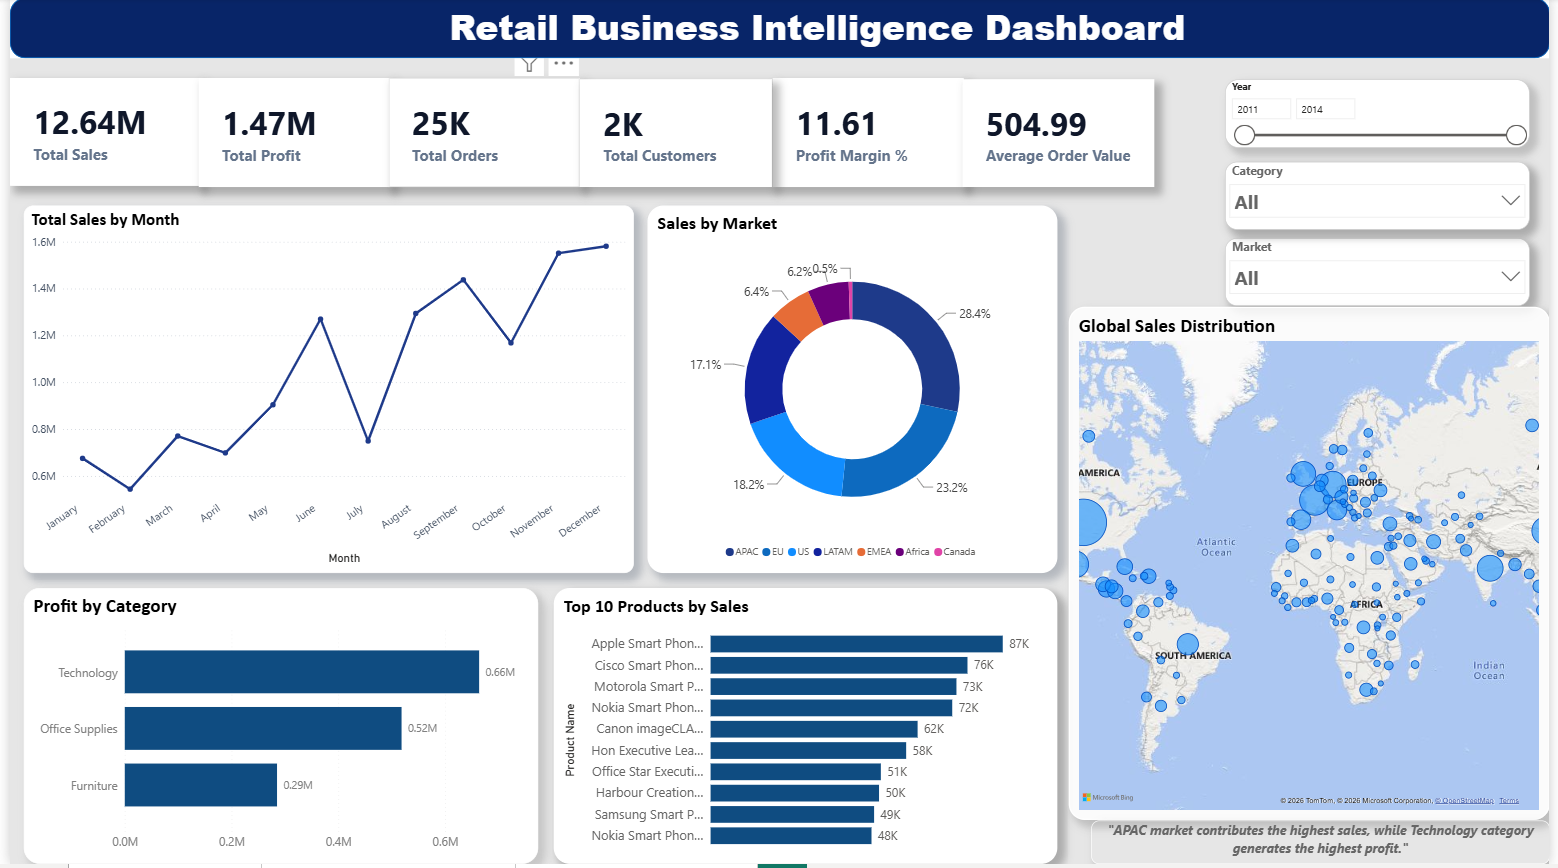

What the dashboard file says about the page in this screenshot:
{"tool":"powerbi","page":{"name":"Executive Dashboard","canvas":[1920,1080],"ordinal":0},"visuals":[{"type":"cardVisual","title":"Total Sales","fields":{"Data":["Measures (2).Total Sales"]},"box":[0,99.4,236,134.3],"z":0},{"type":"cardVisual","title":"Total Sales","fields":{"Data":["Measures (2).Profit Margin %"]},"box":[950.6,99.4,238,136],"z":1000},{"type":"cardVisual","title":"Total Sales","fields":{"Data":["Measures (2).Average Order Value"]},"box":[1187.8,101.2,239,134],"z":2000},{"type":"cardVisual","title":"Total Sales","fields":{"Data":["Measures (2).Total Profit"]},"box":[235.5,99.4,238,136],"z":3000},{"type":"cardVisual","title":"Total Sales","fields":{"Data":["Measures (2).Total Orders"]},"box":[472.7,99.4,238,136],"z":4000},{"type":"cardVisual","fields":{"Data":["Measures (2).Total Customers"]},"box":[711.6,101.2,239,134.3],"z":5000},{"type":"slicer","fields":{"Values":["DateTable.Year"]},"box":[1515.7,101.2,380.2,85.5],"z":6000},{"type":"slicer","fields":{"Values":["Global_Superstore.Market"]},"box":[1515.7,300,380.2,85],"z":7000},{"type":"slicer","fields":{"Values":["Global_Superstore.Category"]},"box":[1515.7,204.1,380.2,85],"z":8000},{"type":"lineChart","fields":{"Y":["Measures (2).Total Sales"],"Category":["DateTable.Month"]},"box":[17.4,258.1,760.5,458.7],"z":9000},{"type":"clusteredBarChart","title":"Profit by Category","fields":{"Category":["Global_Superstore.Category"],"Y":["Measures (2).Total Profit"]},"box":[17.4,736,641.9,343.6],"z":10000},{"type":"donutChart","title":"Sales by Market","fields":{"Category":["Global_Superstore.Market"],"Y":["Measures (2).Total Sales"]},"box":[795.4,258.1,511,458.7],"z":11000},{"type":"clusteredBarChart","title":"Top 10 Products by Sales","fields":{"Category":["Global_Superstore.Product Name"],"Y":["Measures (2).Total Sales"]},"box":[678.5,736,627.9,343.6],"z":12000},{"type":"map","title":"Global Sales Distribution","fields":{"Category":["Global_Superstore.Country"],"Size":["Measures (2).Total Sales"]},"box":[1320.4,385.5,600,640.1],"z":13000},{"type":"textbox","box":[1348.3,1025.6,572.1,54.1],"z":14000},{"type":"shape","box":[0,0,1920.4,75],"z":15000},{"type":"textbox","box":[198.8,0,1540.1,75],"z":16000}]}

Visuals, with their boxes in screenshot pixels (x1, y1, x2, y2), scaled from the page's 1920x1080 canvas onto the 1558x868 screenshot:
"Total Sales" cardVisual: rect(0, 80, 192, 188)
"Total Sales" cardVisual: rect(771, 80, 964, 189)
"Total Sales" cardVisual: rect(964, 81, 1158, 189)
"Total Sales" cardVisual: rect(191, 80, 384, 189)
"Total Sales" cardVisual: rect(384, 80, 577, 189)
cardVisual - Measures (2).Total Customers: rect(577, 81, 771, 189)
slicer - DateTable.Year: rect(1230, 81, 1538, 150)
slicer - Global_Superstore.Market: rect(1230, 241, 1538, 309)
slicer - Global_Superstore.Category: rect(1230, 164, 1538, 232)
lineChart - Measures (2).Total Sales x DateTable.Month: rect(14, 207, 631, 576)
"Profit by Category" clusteredBarChart: rect(14, 592, 535, 867)
"Sales by Market" donutChart: rect(645, 207, 1060, 576)
"Top 10 Products by Sales" clusteredBarChart: rect(551, 592, 1060, 867)
"Global Sales Distribution" map: rect(1071, 310, 1557, 824)
textbox: rect(1094, 824, 1557, 867)
shape: rect(0, 0, 1557, 60)
textbox: rect(161, 0, 1411, 60)
